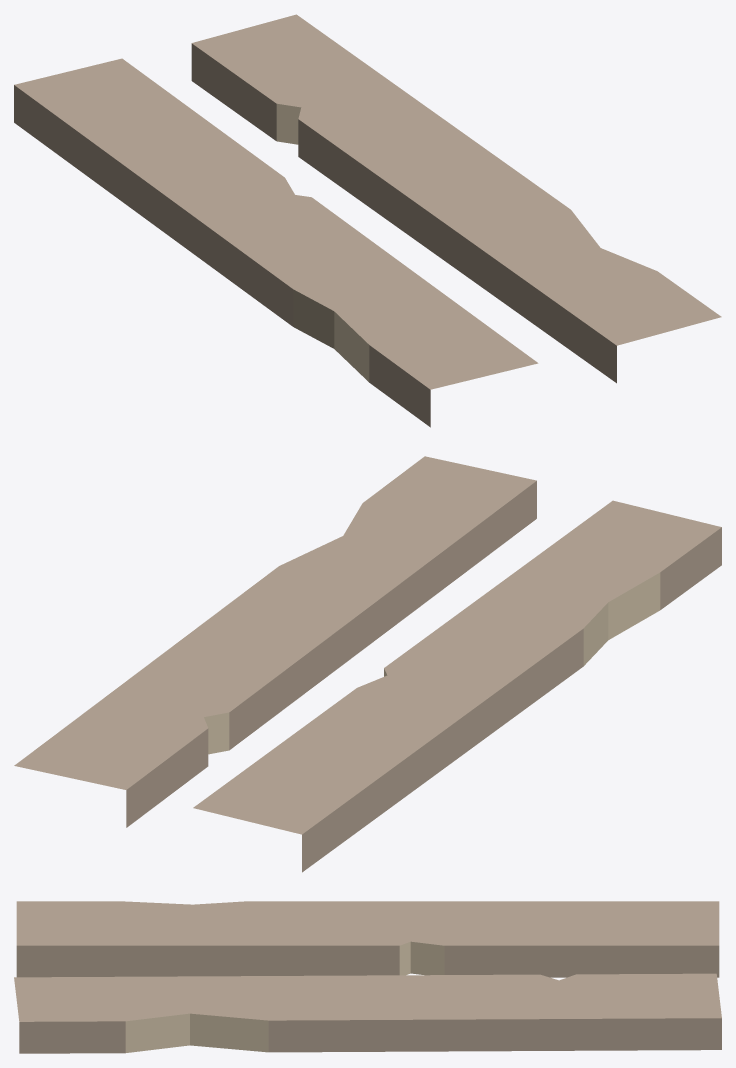
File: Cave_Prop_Support_Ceiling_Boards_1.glb
The picture shows the model from 3 angles, top to bottom: view 1: azimuth 30°, elevation 25°; view 2: azimuth 150°, elevation 25°; view 3: azimuth 270°, elevation 25°; orthographic projection. The views are drawn at different scales.
Visible parts, largest first — view 1: Cave_Prop_Support_Ceiling_Boards_1; view 2: Cave_Prop_Support_Ceiling_Boards_1; view 3: Cave_Prop_Support_Ceiling_Boards_1.
Part boxes in pixels (x1,y1,x2,y2): Cave_Prop_Support_Ceiling_Boards_1: (14,14,721,427); Cave_Prop_Support_Ceiling_Boards_1: (14,456,721,872); Cave_Prop_Support_Ceiling_Boards_1: (14,901,721,1053).
Bounding box in the file's own units: 0.8124 × 0.1 × 2.01.
